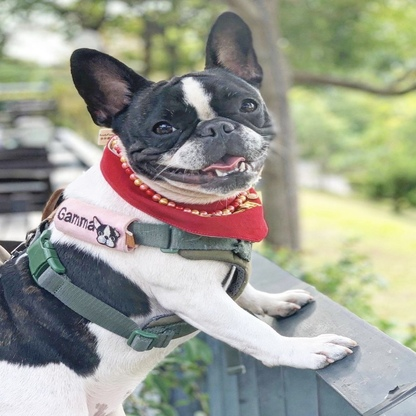bulldog: (1, 9, 363, 416)
